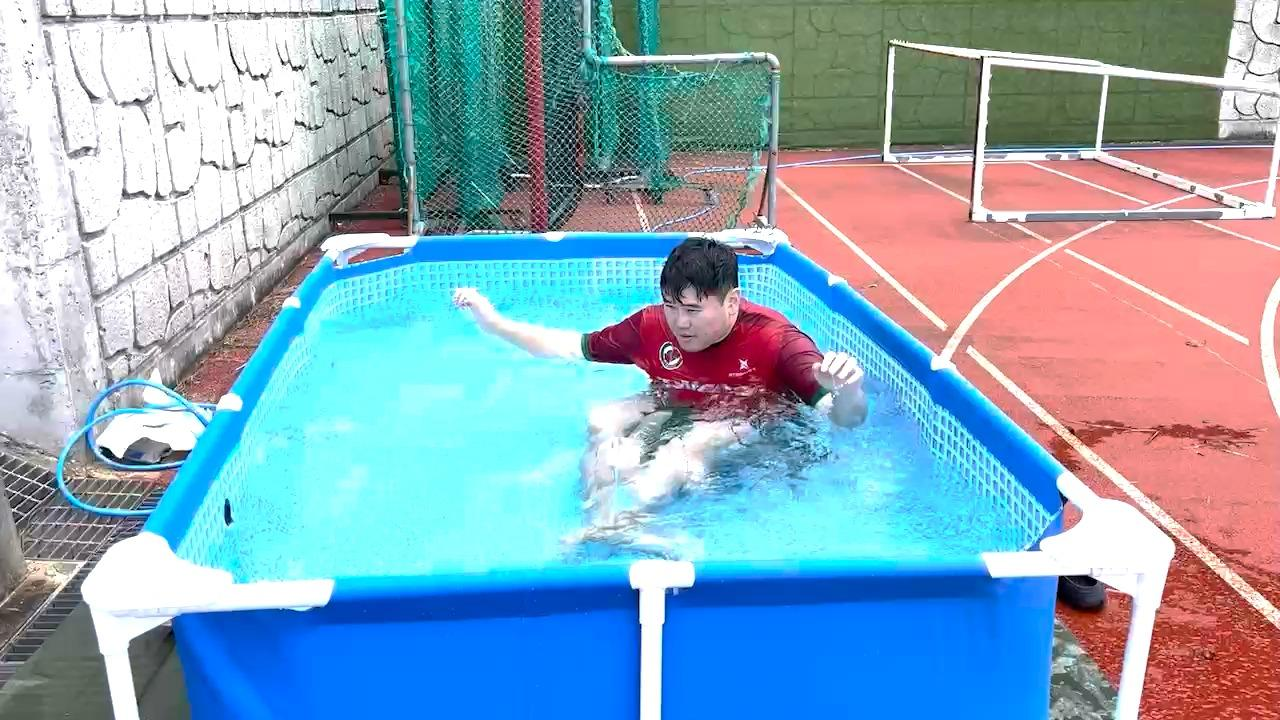Drowning: (463, 225, 862, 510)
